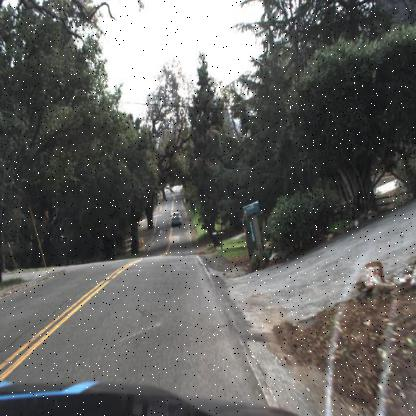car: (168, 210, 185, 229)
